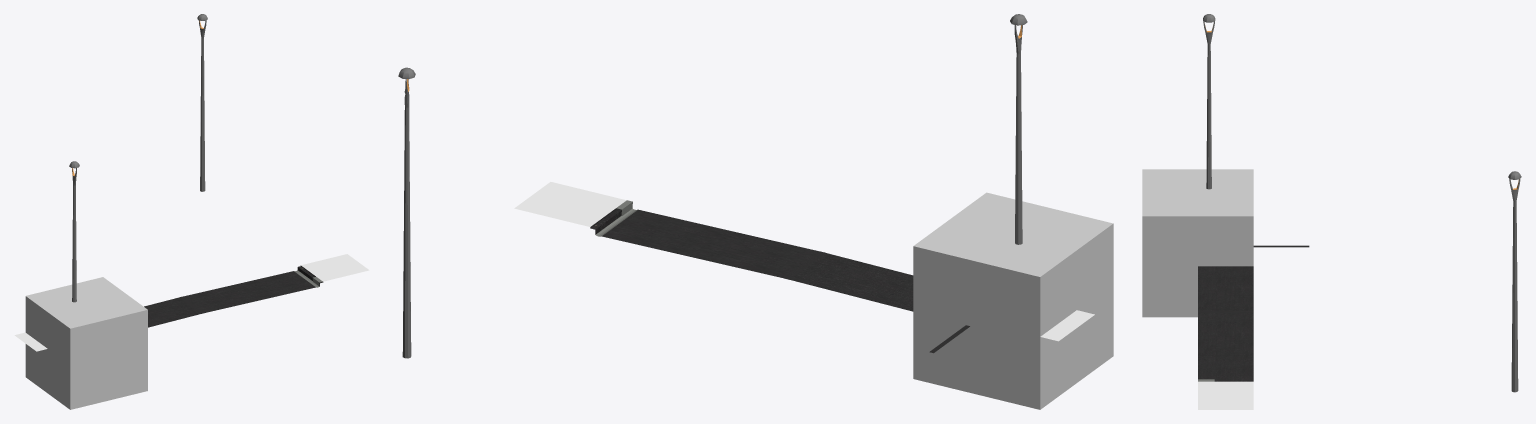
File: path.gltf
3 views of the same model, side by side, from view 1: azimuth 30°, elevation 25°; view 2: azimuth 150°, elevation 25°; view 3: azimuth 270°, elevation 25° (orthographic). The views are drawn at different scales.
Parts seen in each view (by area): view 1: Cube, Road Profile, Street light; view 2: Cube, Road Profile, Street light; view 3: Cube, Road Profile, Street light.
Part boxes in pixels (bbox=[...]): Cube: bbox=[25, 277, 147, 409]; Road Profile: bbox=[14, 254, 369, 351]; Street light: bbox=[69, 14, 207, 302]; Cube: bbox=[913, 192, 1113, 409]; Road Profile: bbox=[514, 182, 1094, 341]; Street light: bbox=[398, 14, 1027, 358]; Cube: bbox=[1142, 169, 1253, 317]; Road Profile: bbox=[1198, 266, 1253, 409]; Street light: bbox=[1203, 14, 1521, 392].
Size of the model in its own units: 8.58 by 5.44 by 6.81.
9 materials, 4 textured.
